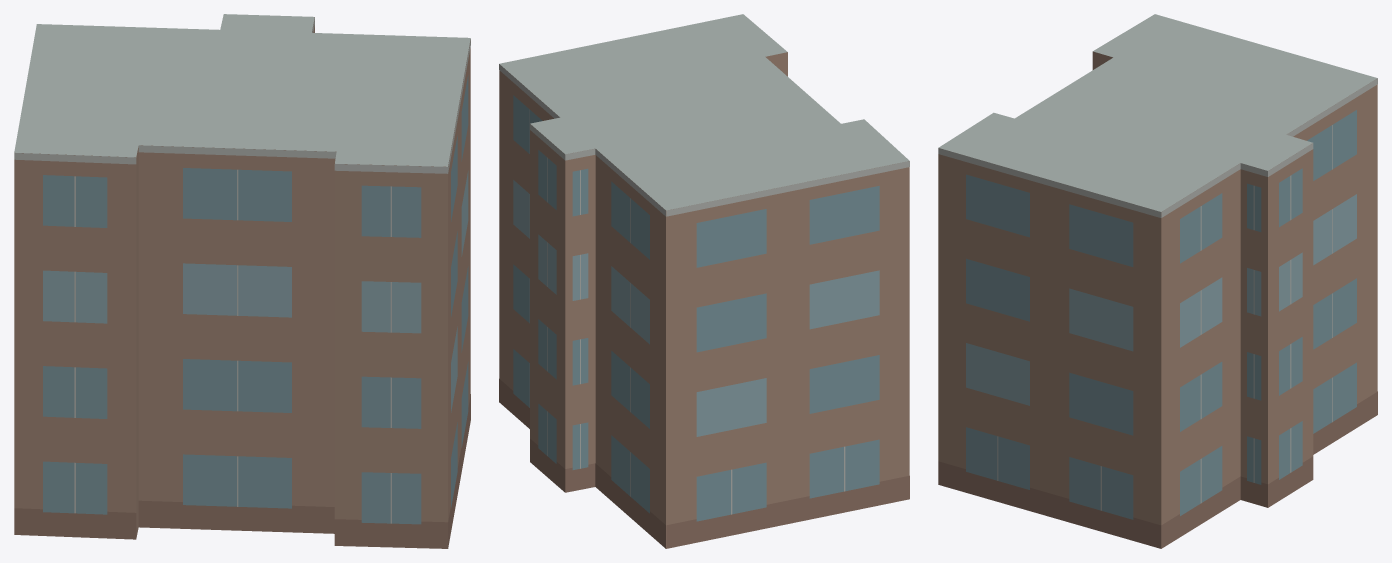
The model's file is survey-upis-32548723.glb.
The picture shows the model from 3 angles, left to right: view 1: azimuth 30°, elevation 25°; view 2: azimuth 150°, elevation 25°; view 3: azimuth 270°, elevation 25°; orthographic projection. The views are drawn at different scales.
Visible parts, largest first — view 1: survey-upis-32548723.tmp; view 2: survey-upis-32548723.tmp; view 3: survey-upis-32548723.tmp.
Part boxes in pixels (x1,y1,x2,y2): survey-upis-32548723.tmp: [14, 14, 470, 548]; survey-upis-32548723.tmp: [499, 14, 909, 548]; survey-upis-32548723.tmp: [938, 14, 1377, 548].
Size of the model in its own units: 16.77 by 13.3 by 15.73.
